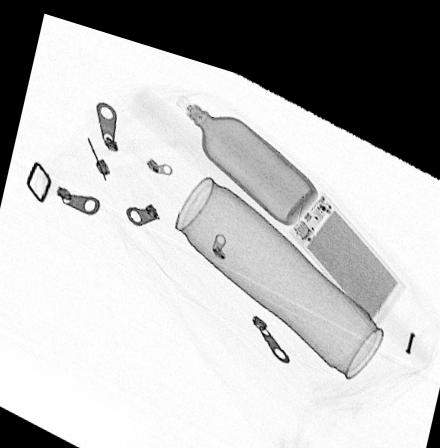Powerbank: (285, 169, 405, 308)
